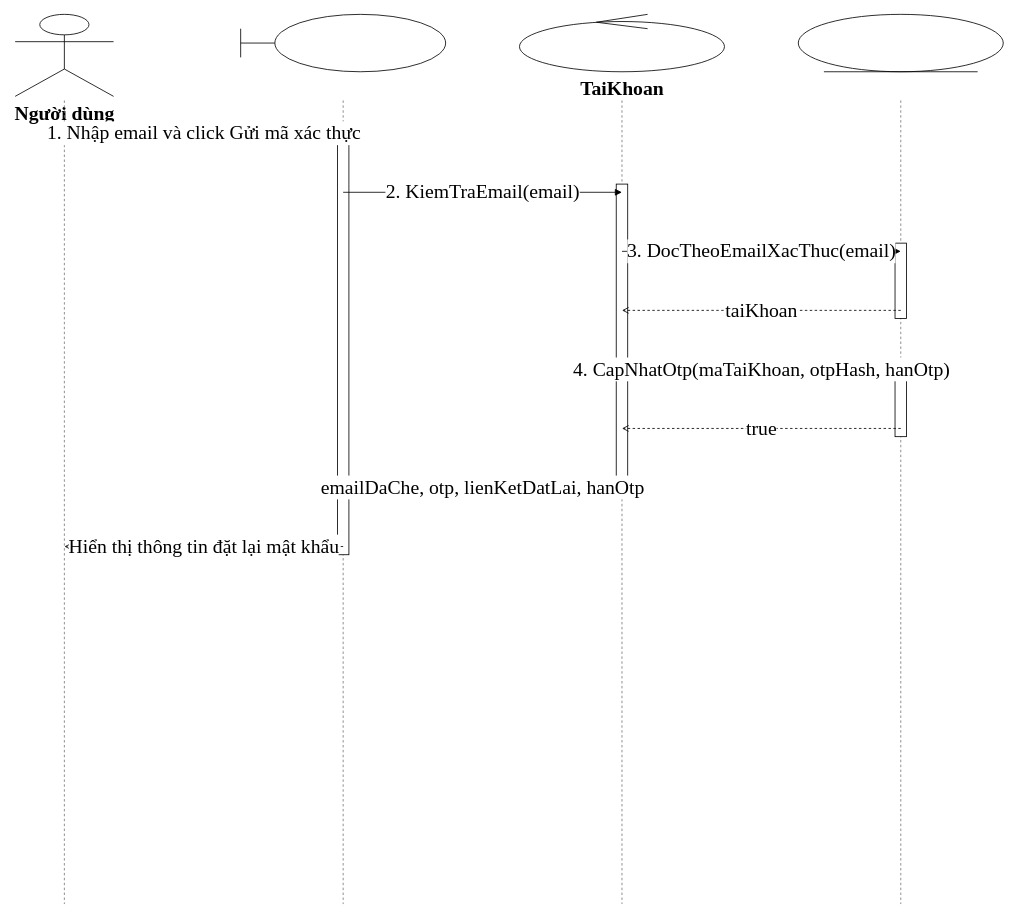
Some shapes in this 1018 by 919 pixel diagram are drawn without their labels. Here are the shapes that lost their labels. From the top down, the centre of each, then its label:
At pixel 343 43: "MHQuenMatKhau".
At pixel 900 43: "TaiKhoanDB".
